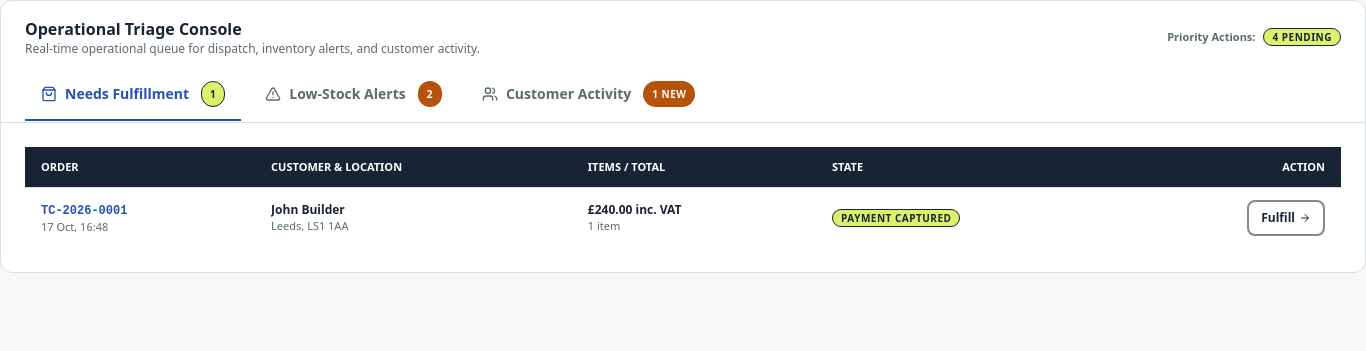
Milestone M1: Retail Merchant Admin Navigation & Core Dashboard › Feature 3: DashboardQuickFilters 3-Tab Operational Triage Console › switches to Low-Stock Alerts tab and renders product inventory levels
The image size is (1366, 351).
Click the tab "Low-Stock Alerts 2" at (354, 95), box [249, 69, 458, 121]
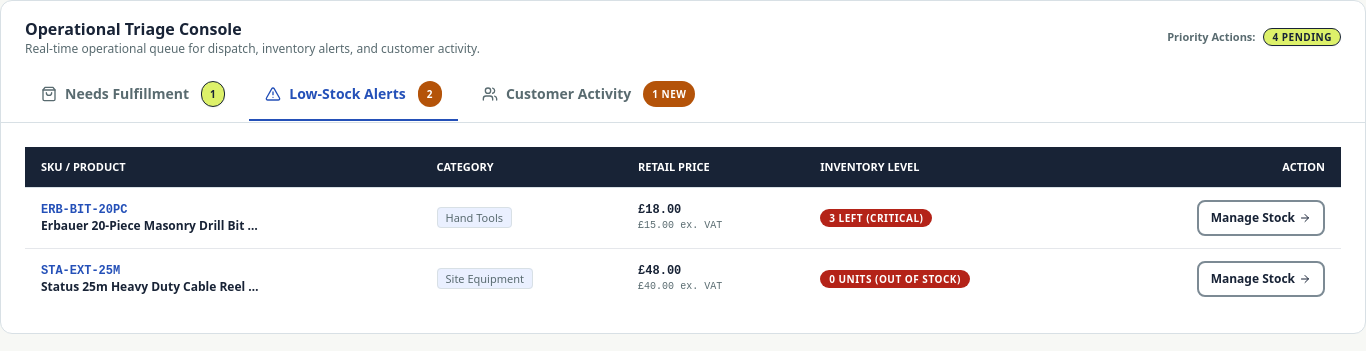
Now the text "ERB-BIT-20PC" is shown, box [41, 203, 127, 217]
Now the text "3 Left (Critical)" is shown, box [820, 209, 932, 227]
Now the text "STA-EXT-25M" is shown, box [41, 264, 120, 278]
